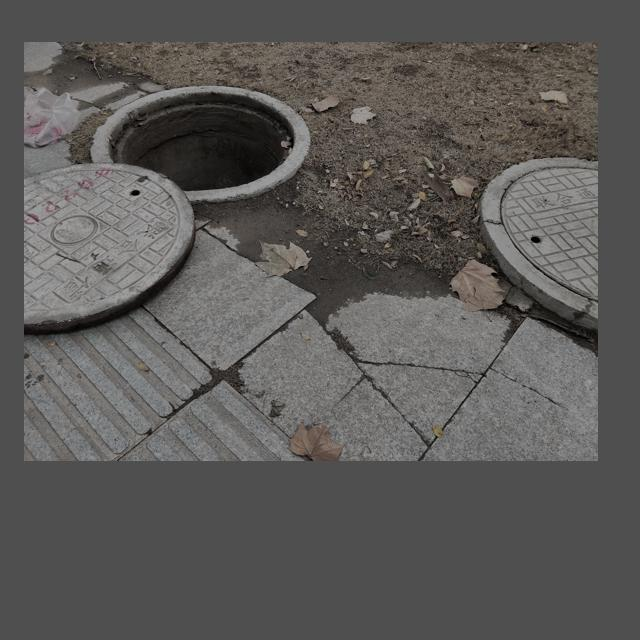good: (480, 156, 598, 332)
uncovered: (24, 84, 308, 334)
